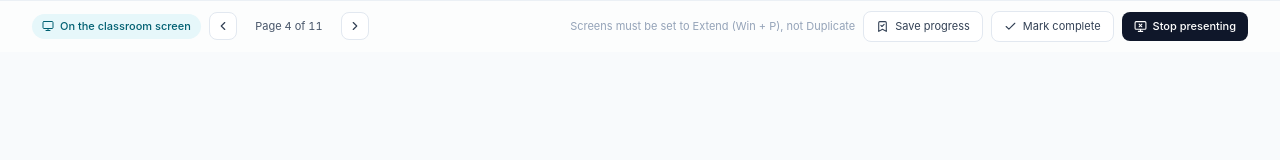
Test: saving from the presenting bar with no connection › keeps a completion without claiming the lesson is done
The width and height of the screenshot is (1280, 160).
Click the button "Mark complete".
click(1052, 26)  # box [991,11,1114,42]
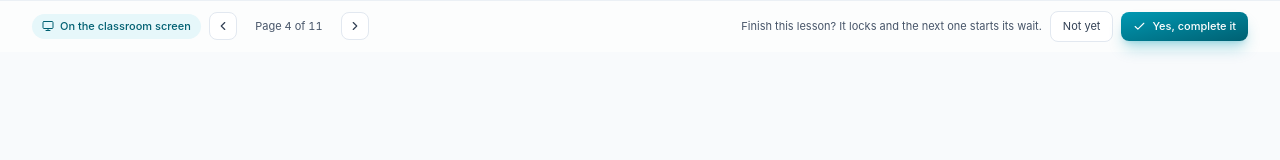
Click the button "Yes, complete it".
click(1185, 26)  # box [1121,12,1248,40]
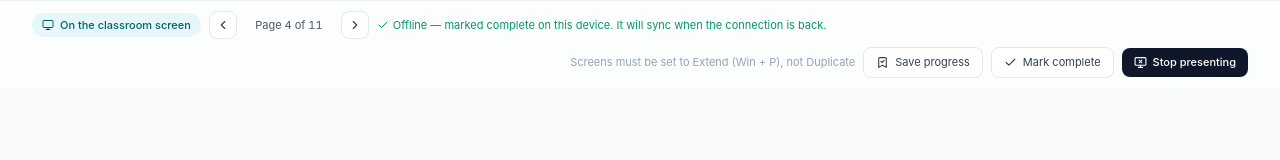
Expected: the text "marked complete on this device" is shown, [393,18,826,32]
